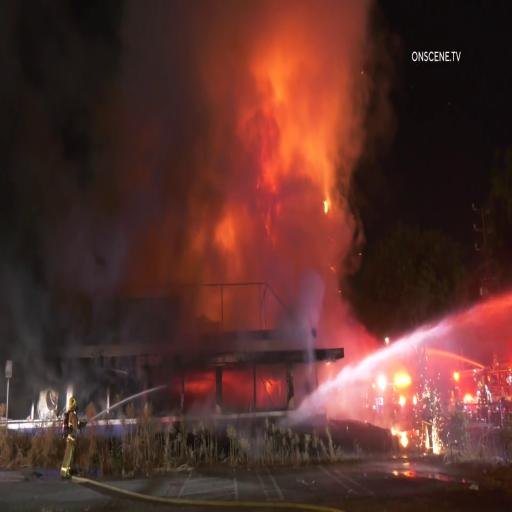smoke: (12, 5, 358, 276)
